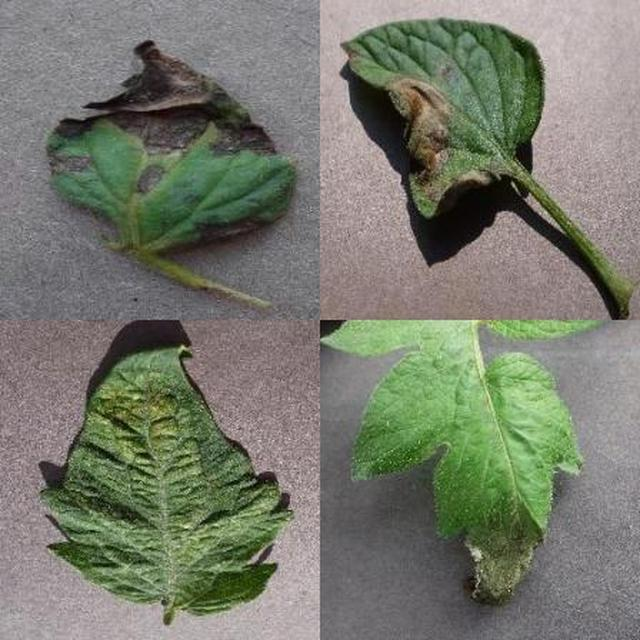Early Blight Leaf: (236, 171, 640, 640)
